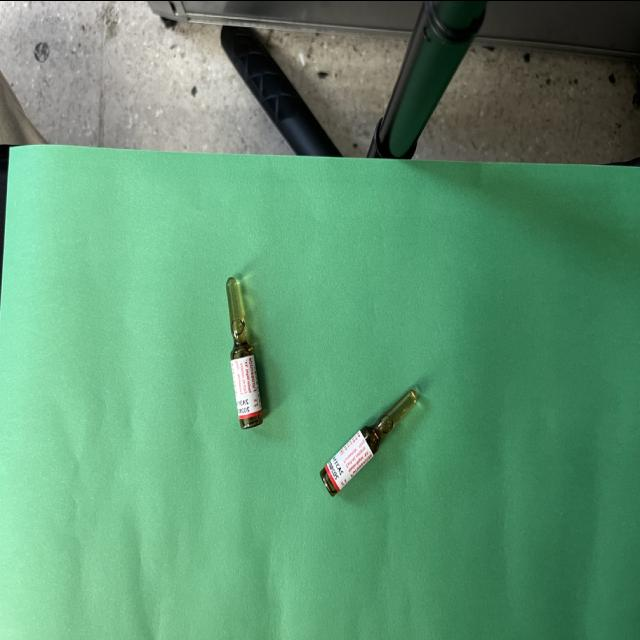Ampoules: (320, 388, 418, 495), (226, 276, 263, 428)
